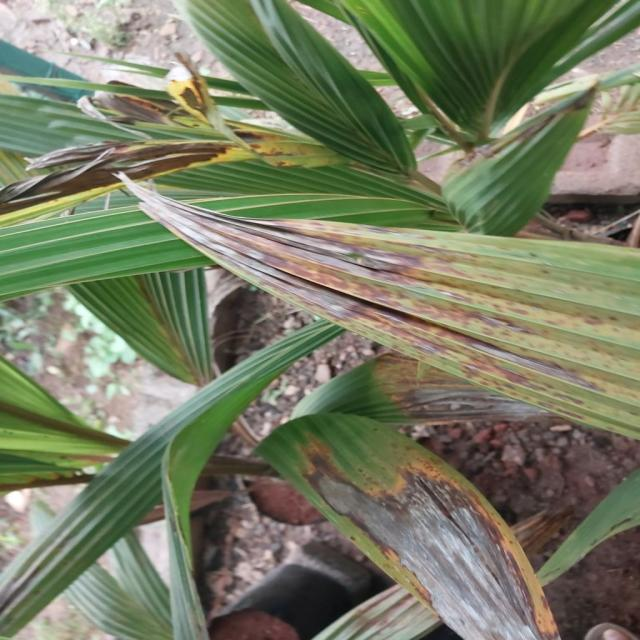gray leaf spot: (115, 175, 640, 640)
